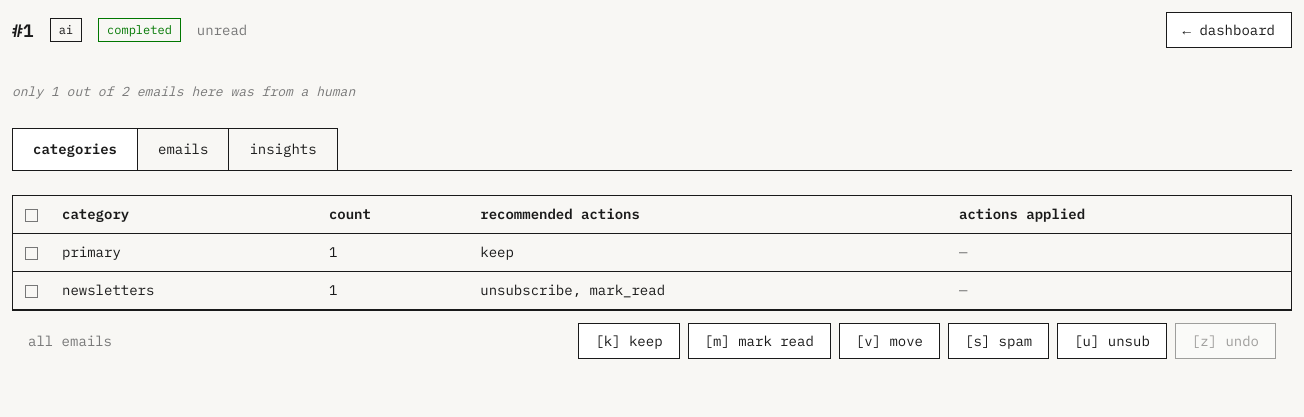
Test case: AnalysisPage - Emails Tab › select-all checkbox selects all emails
Expected: the text "primary" is shown, [50,233,317,271]
Click the text "emails" at (183,148), box [137,128,229,170]
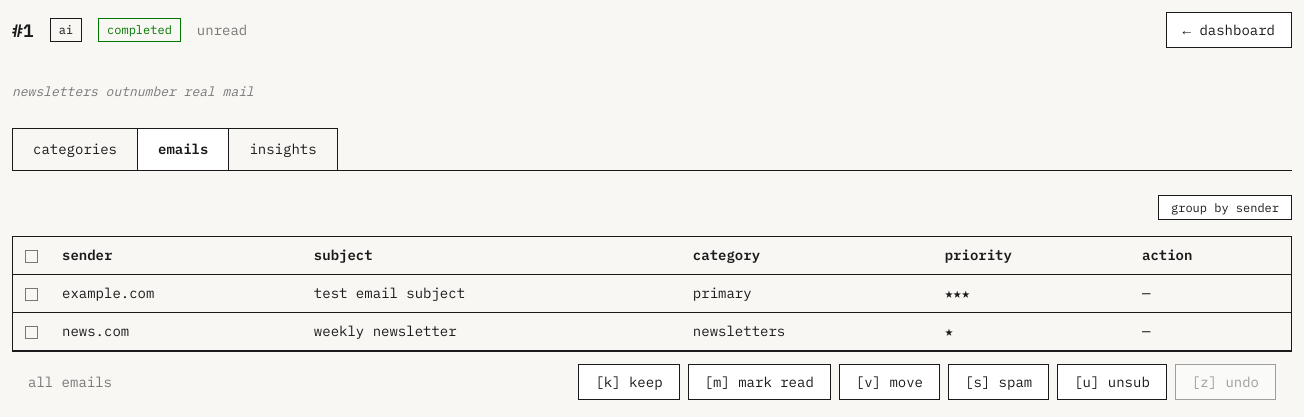
Click the checkbox in the row of "category" at (32,256), box [25,249,38,262]
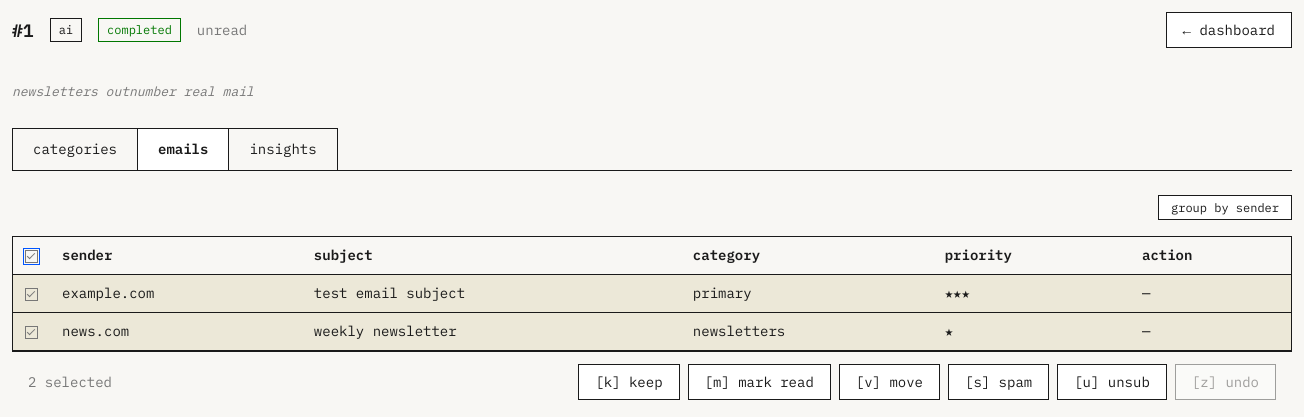
Expected: the checkbox in the row of "category" is checked, [25,249,38,262]
Expected: the checkbox next to "example.com" is checked, [25,287,38,300]
Expected: the checkbox next to "news.com" is checked, [25,325,38,338]
